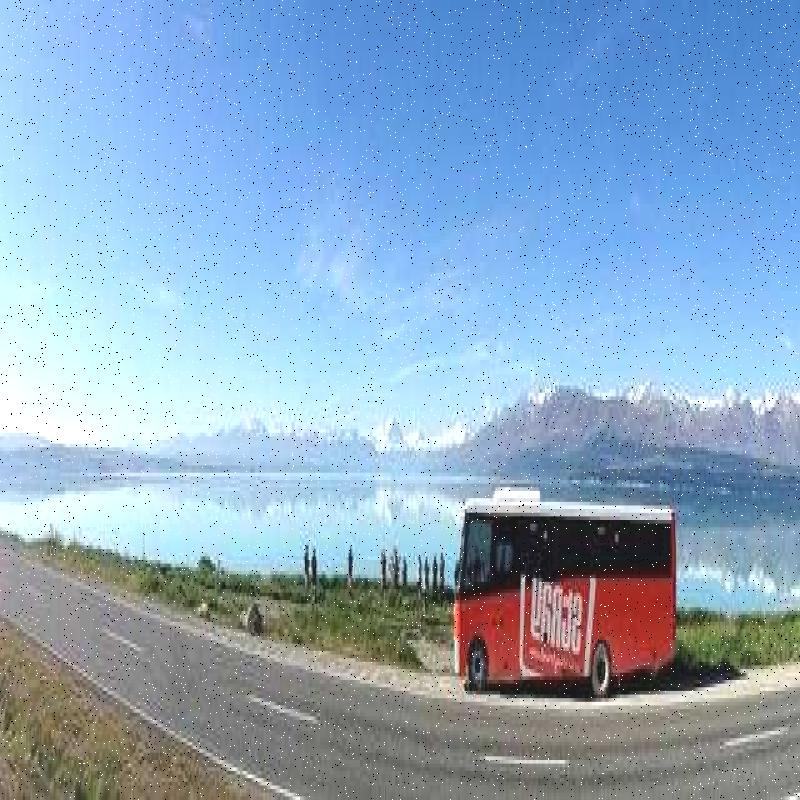bus: (446, 469, 694, 691)
